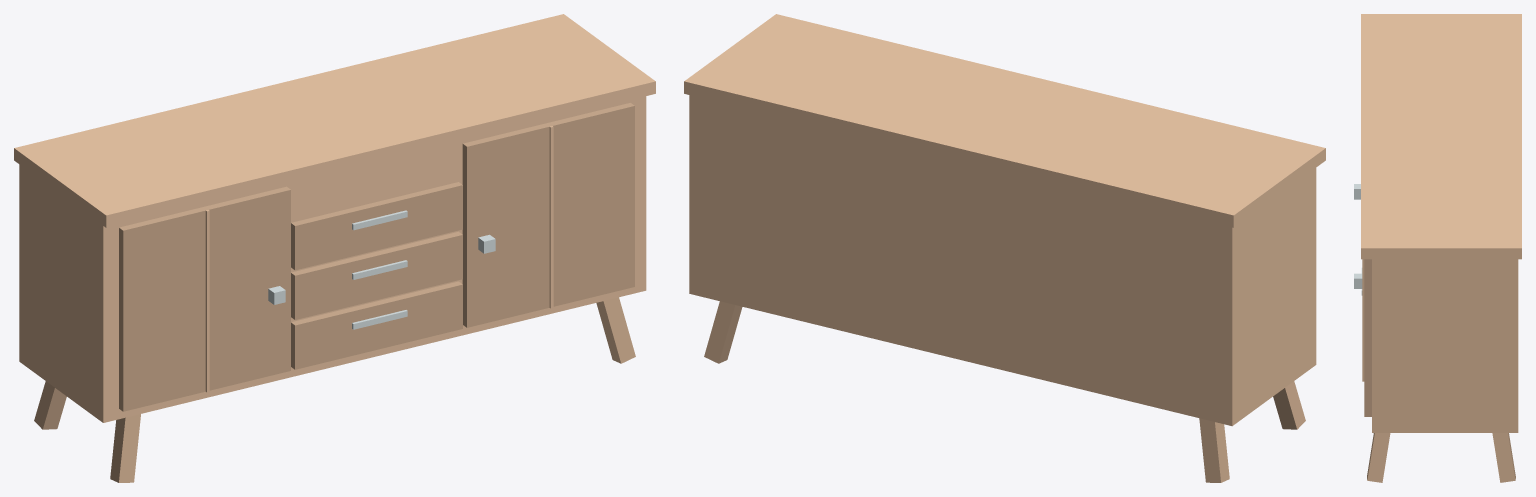
File: sideboardMidCentury.glb
The picture shows the model from 3 angles, left to right: view 1: azimuth 30°, elevation 25°; view 2: azimuth 150°, elevation 25°; view 3: azimuth 270°, elevation 25°; orthographic projection. The views are drawn at different scales.
Parts seen in each view (by area): view 1: sideboardMidCentury; view 2: sideboardMidCentury; view 3: sideboardMidCentury.
Boxes of the visible parts, bbox=[...] form: sideboardMidCentury: bbox=[14, 14, 655, 482]; sideboardMidCentury: bbox=[684, 14, 1325, 482]; sideboardMidCentury: bbox=[1354, 14, 1521, 482].
Size of the model in its own units: 0.81 by 0.394 by 0.245.
